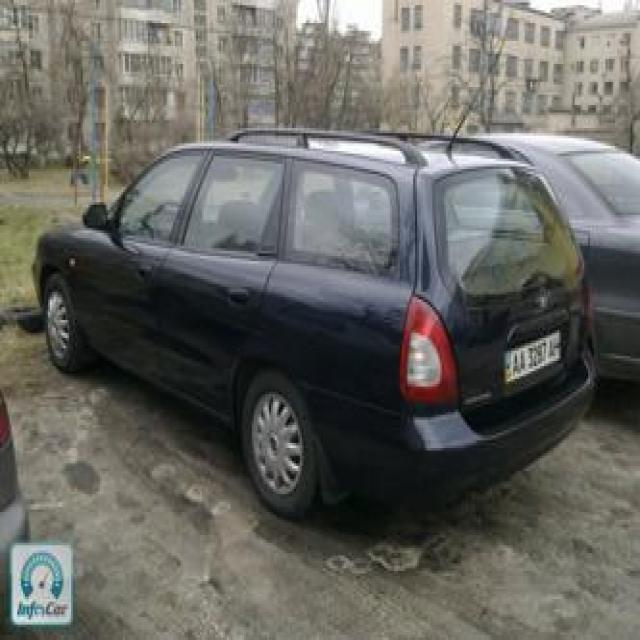Car: (70, 101, 616, 593)
